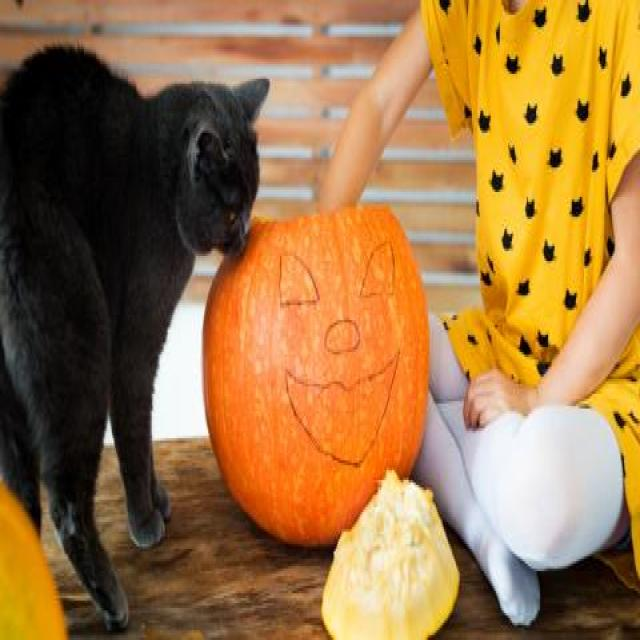pumpkin: (204, 208, 429, 545)
